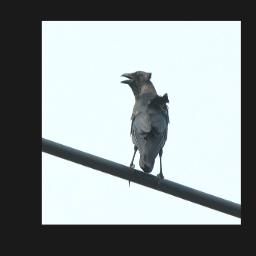Crow: (120, 67, 170, 189)
